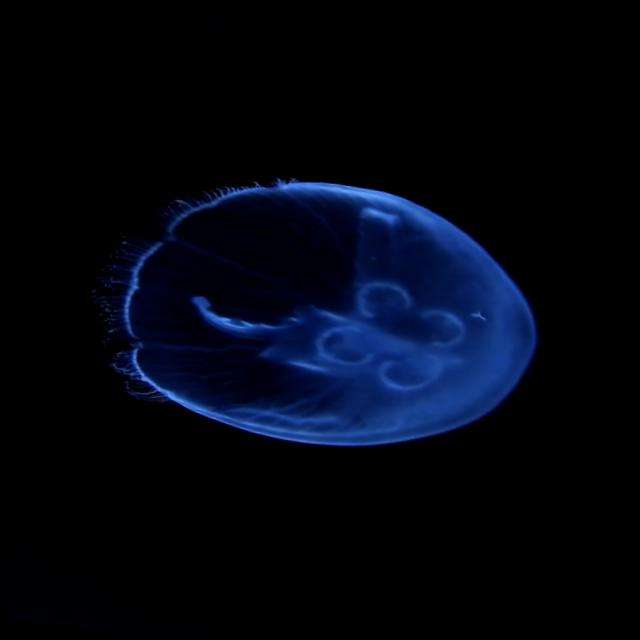Moon-jellyfish: (87, 174, 542, 444)
